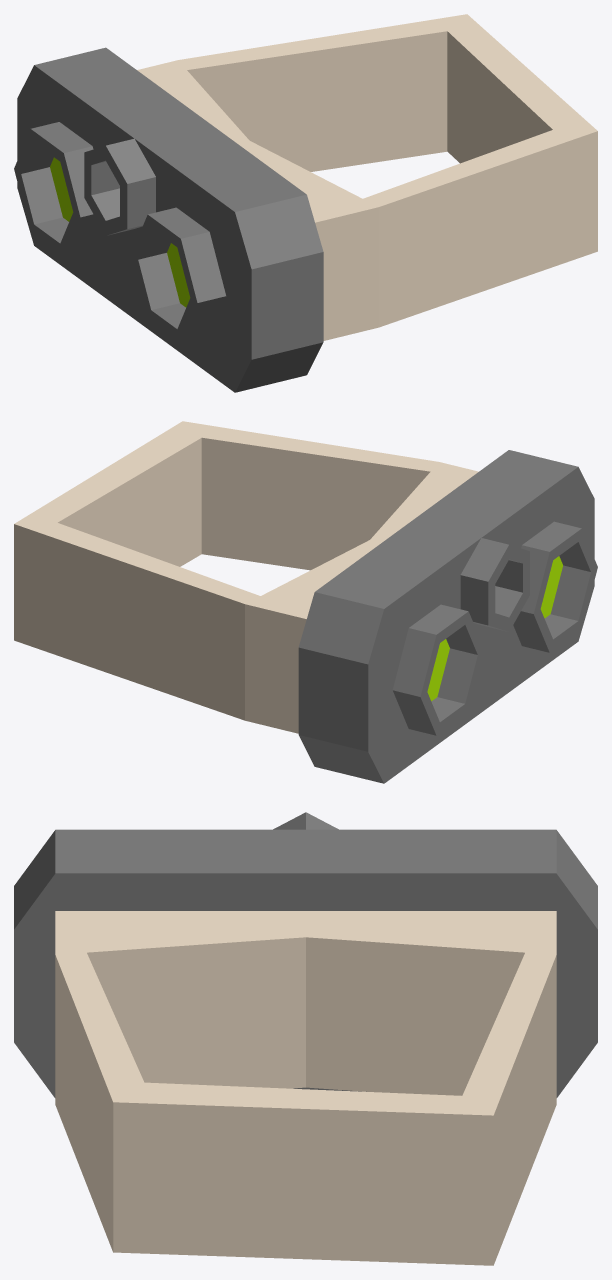
File: NightVision.fbx
The picture shows the model from 3 angles, top to bottom: view 1: azimuth 30°, elevation 25°; view 2: azimuth 150°, elevation 25°; view 3: azimuth 270°, elevation 25°; orthographic projection. The views are drawn at different scales.
Visible parts, largest first — view 1: NightVision; view 2: NightVision; view 3: NightVision.
Boxes of the visible parts, x1,y1,x2,y2 form: NightVision: (14, 14, 597, 392); NightVision: (14, 421, 597, 783); NightVision: (14, 812, 597, 1265).
Bounding box in the file's own units: 0.1518 × 0.06 × 0.1409.
